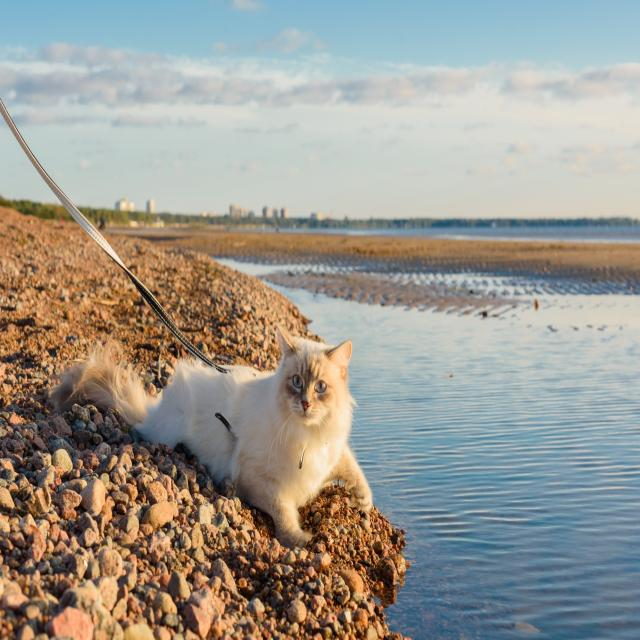Neva Masquerade: (53, 317, 376, 555)
